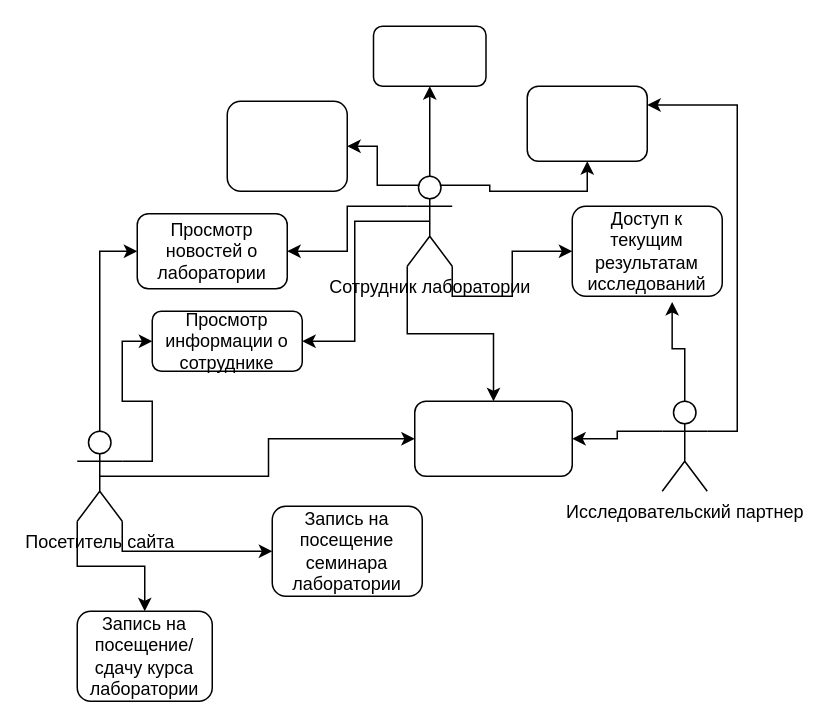
Some shapes in this 830 by 728 pixel diagram are drawn without their labels. Each missing label, with the centre of its shape:
"Вход в личный кабинет сотрудника" belongs at point (286, 145).
"Доступ к проектам лаборатории" belongs at point (586, 123).
"Просмотр публикаций сотрудников" belongs at point (492, 438).
"Публикация статьи" belongs at point (429, 55).
